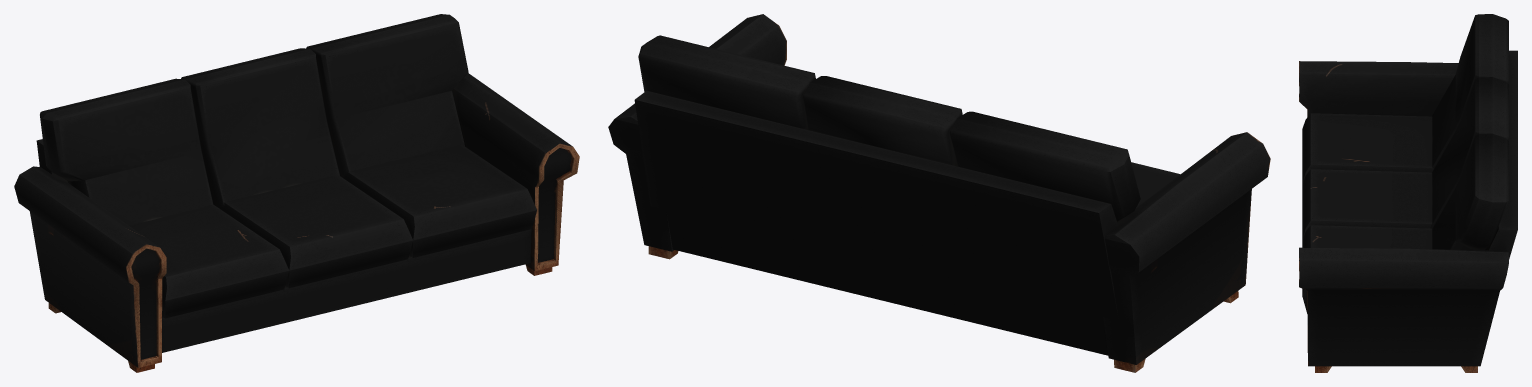
3 renders of one model, left to right at view 1: azimuth 30°, elevation 25°; view 2: azimuth 150°, elevation 25°; view 3: azimuth 270°, elevation 25°, orthographic. The views are drawn at different scales.
Visible parts, largest first — view 1: couch_3dc; view 2: couch_3dc; view 3: couch_3dc.
Part boxes in pixels (<box>): couch_3dc: <box>14,14,579,372</box>; couch_3dc: <box>608,14,1270,372</box>; couch_3dc: <box>1299,14,1517,372</box>.
Bounding box in the file's own units: 354 × 141 × 160.
1 material, 1 textured.
